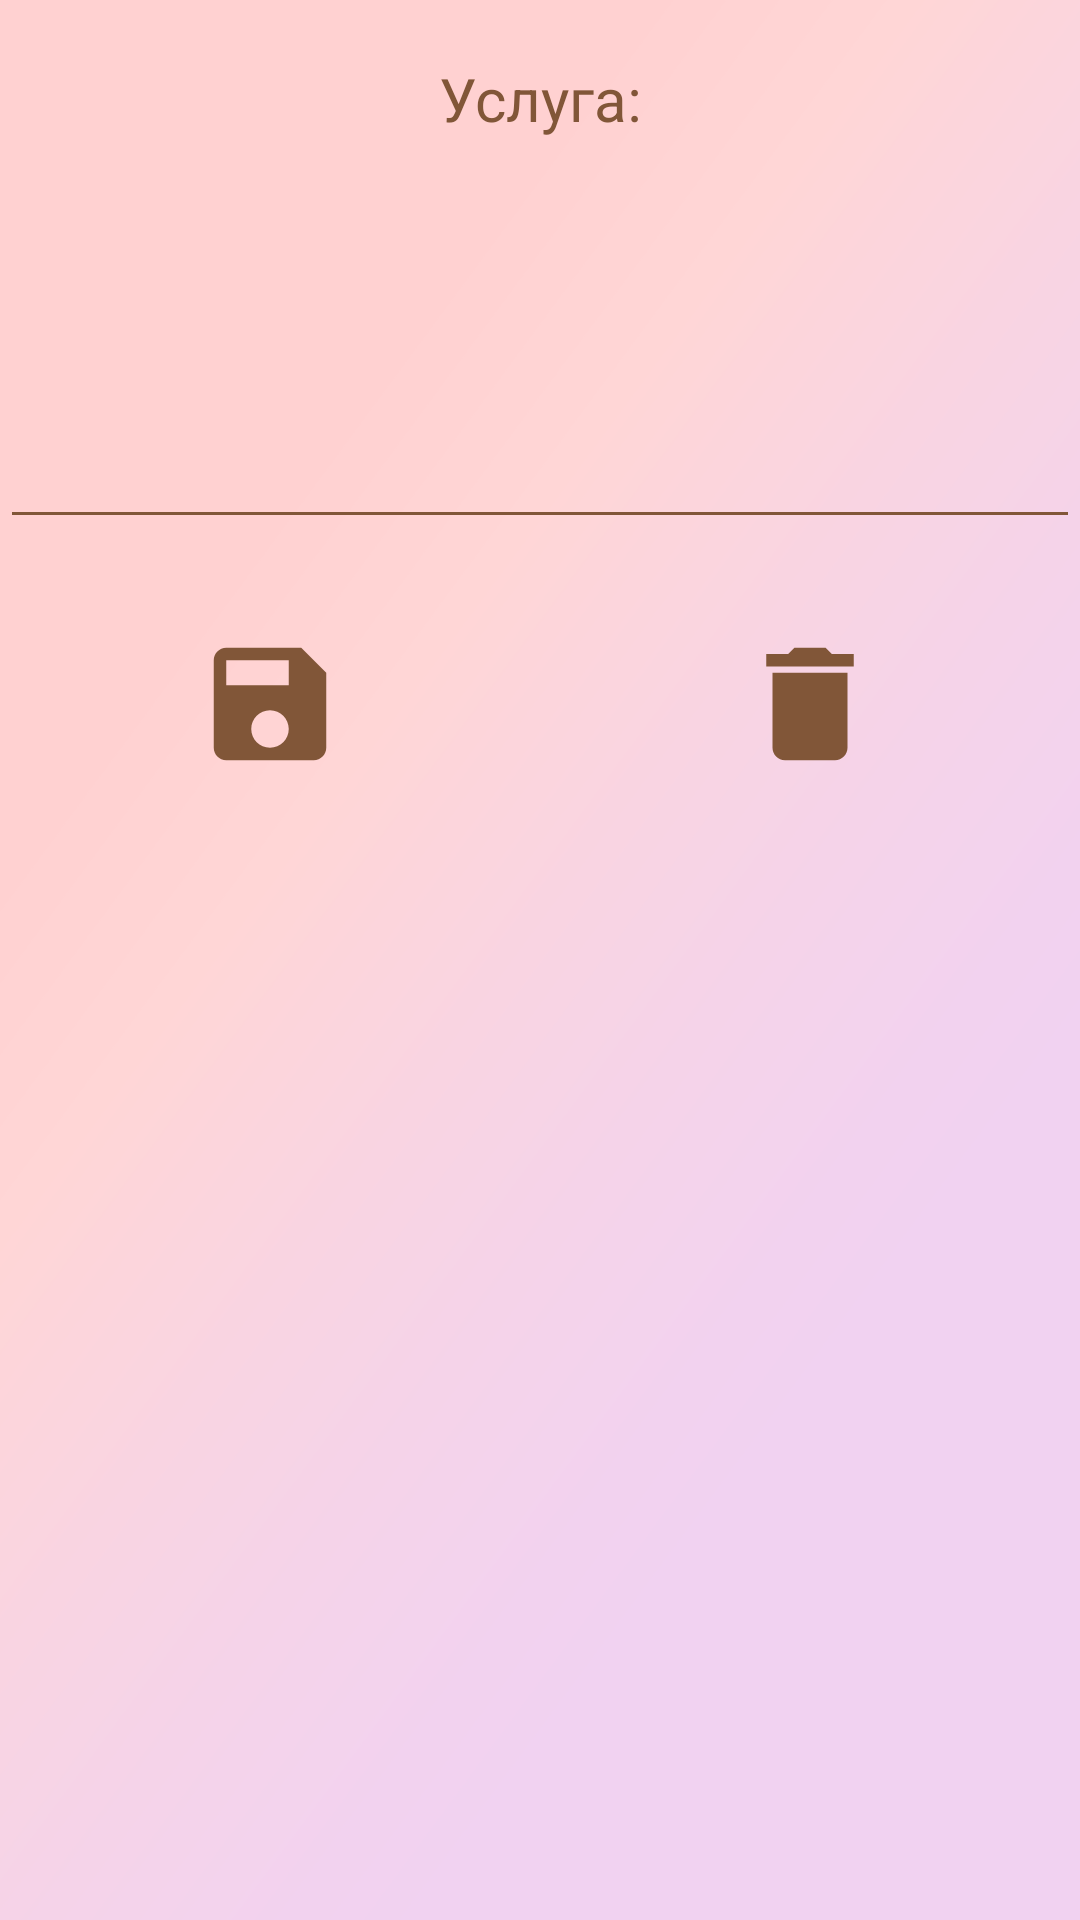

Named icons in this screenshot (1080px x 1920px) and their bounding boxes, (x1, y1, x2, y2):
Сохранить: (213, 647, 327, 761)
Удалить: (766, 647, 854, 761)
